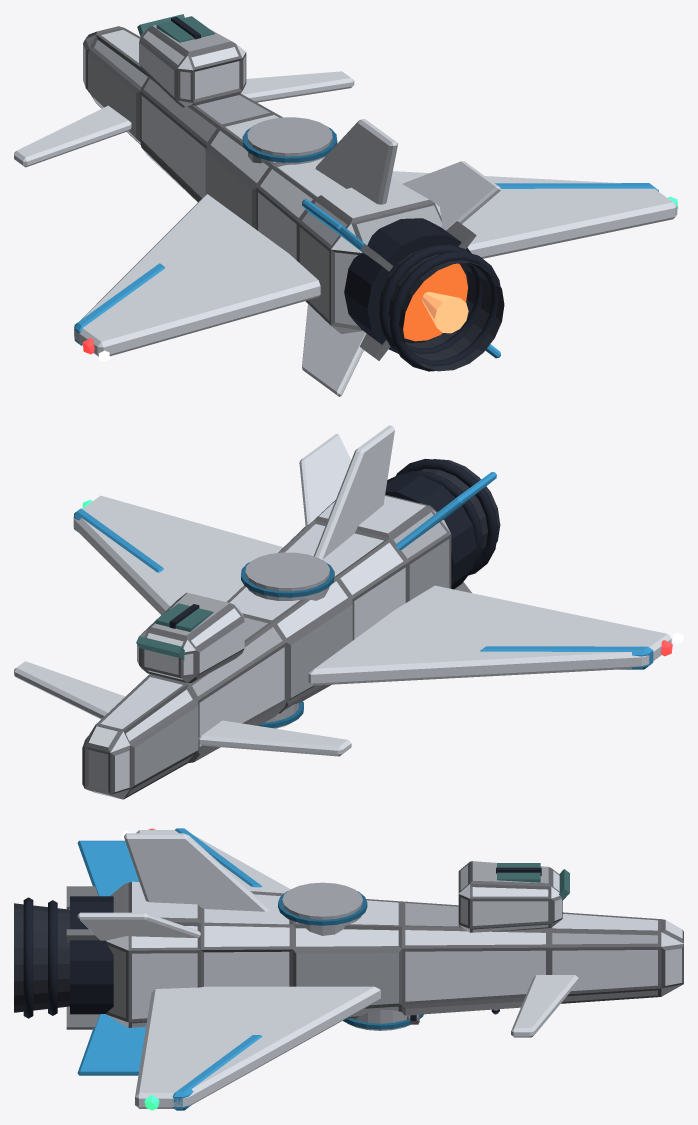
The model's file is gnat.glb.
3 renders of one model, top to bottom at view 1: azimuth 30°, elevation 25°; view 2: azimuth 150°, elevation 25°; view 3: azimuth 270°, elevation 25°, orthographic. The views are drawn at different scales.
Visible parts, largest first — view 1: gnat_mesh; view 2: gnat_mesh; view 3: gnat_mesh.
Part boxes in pixels (left/top/right/bottom): gnat_mesh: left=14, top=14, right=678, bottom=396; gnat_mesh: left=14, top=425, right=672, bottom=799; gnat_mesh: left=14, top=828, right=683, bottom=1110.
Bounding box in the file's own units: 6.15 × 2.15 × 6.37.
